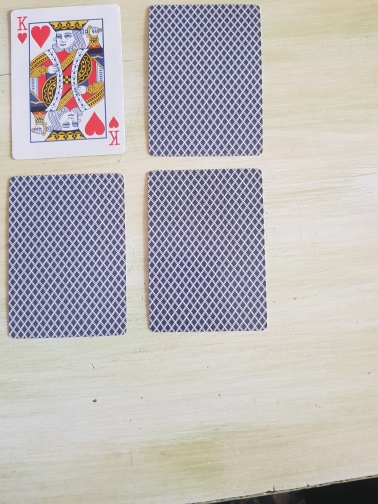king: (10, 3, 127, 162)
